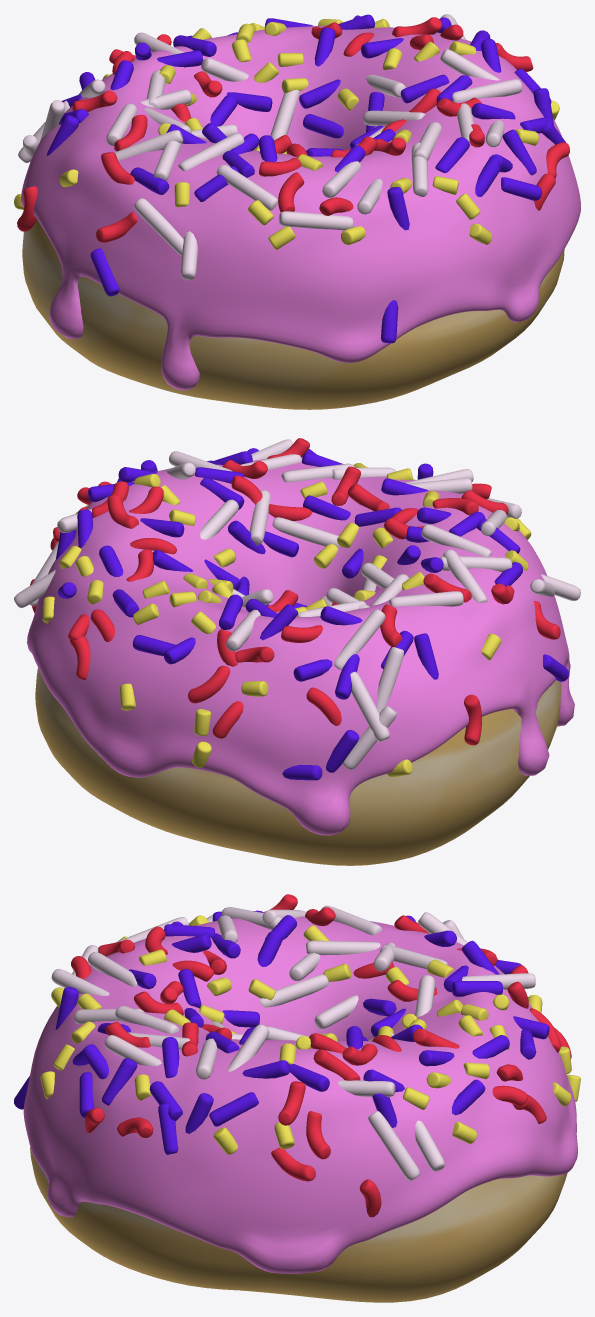
File: donut.glb
3 views of the same model, one above another, from view 1: azimuth 30°, elevation 25°; view 2: azimuth 150°, elevation 25°; view 3: azimuth 270°, elevation 25° (orthographic). The views are drawn at different scales.
Visible parts, largest first — view 1: icing.001, donut.001; view 2: icing.001, donut.001; view 3: icing.001, donut.001.
Part boxes in pixels (box(x1,y1,x2,y2)): icing.001: box(14, 14, 580, 390); donut.001: box(22, 219, 564, 409); icing.001: box(14, 438, 580, 835); donut.001: box(35, 668, 561, 865); icing.001: box(14, 894, 580, 1273); donut.001: box(30, 1147, 567, 1302).
Bounding box in the file's own units: 0.1358 × 0.0757 × 0.1314.
Materials: 6 (1 with a texture image).
